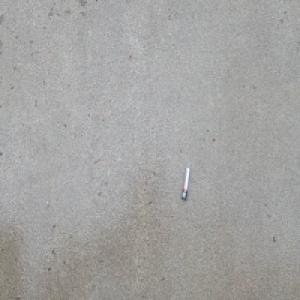Battery: (181, 164, 189, 199)
